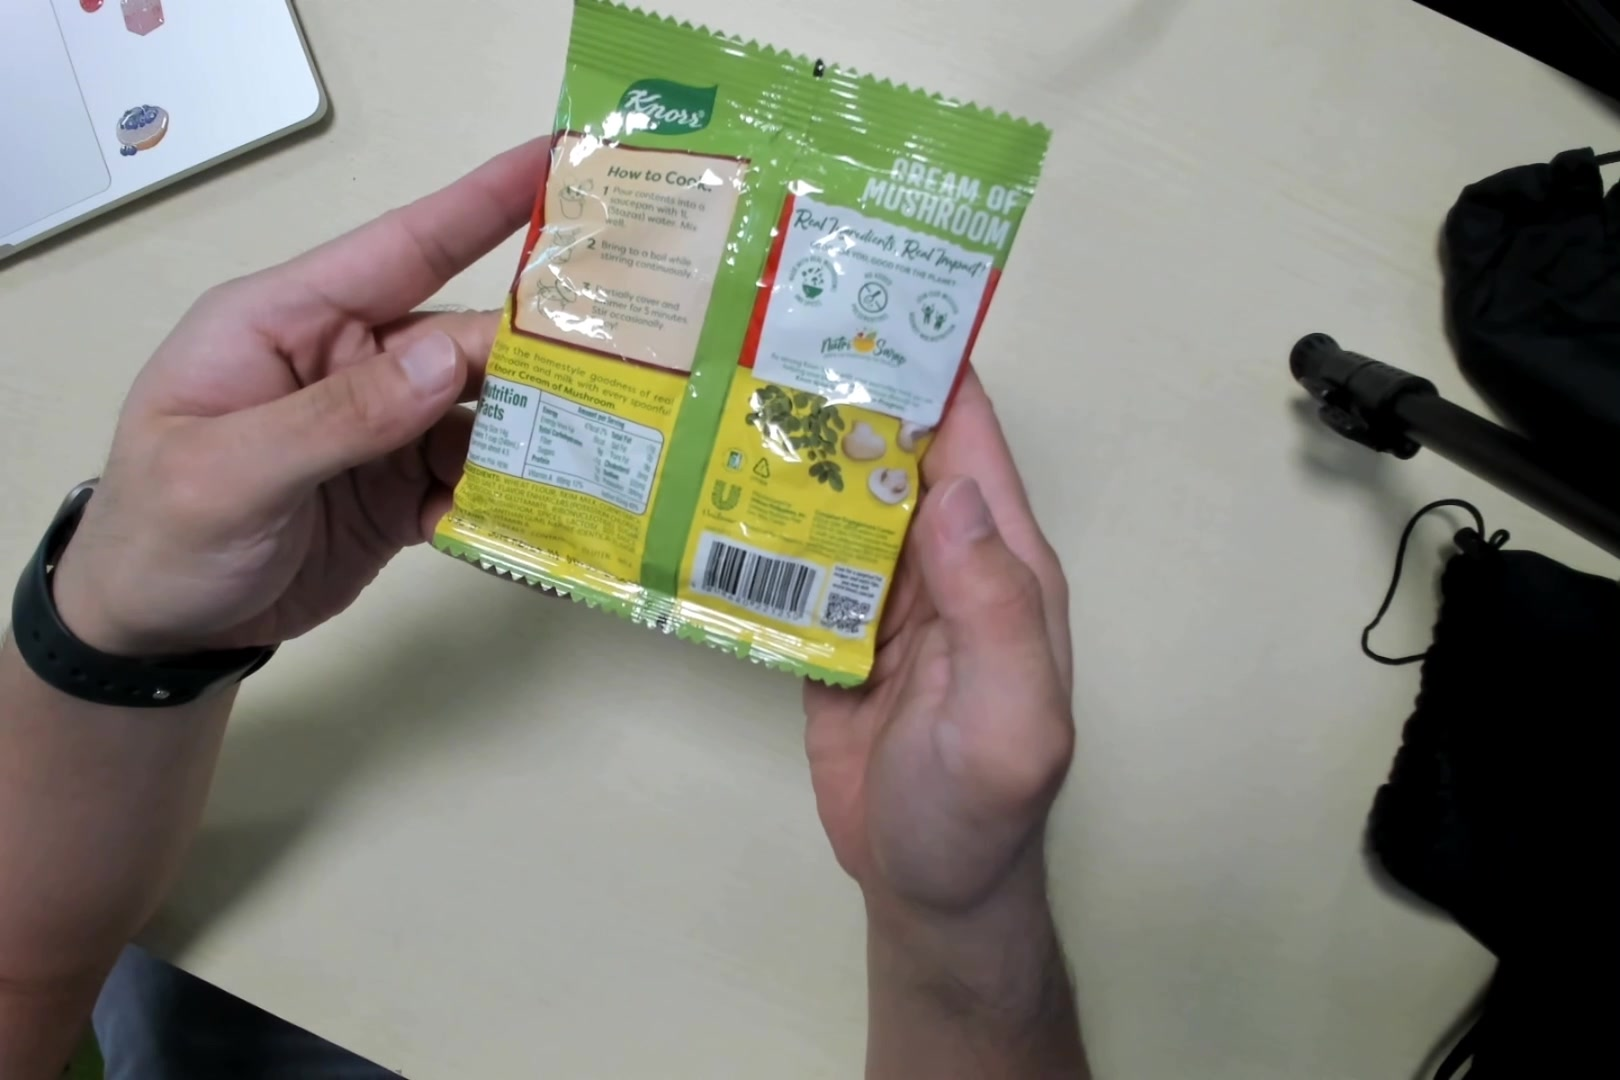OtherBakingNeeds_0-99g_NonHalal_NonHealthy: (445, 13, 1053, 682)
